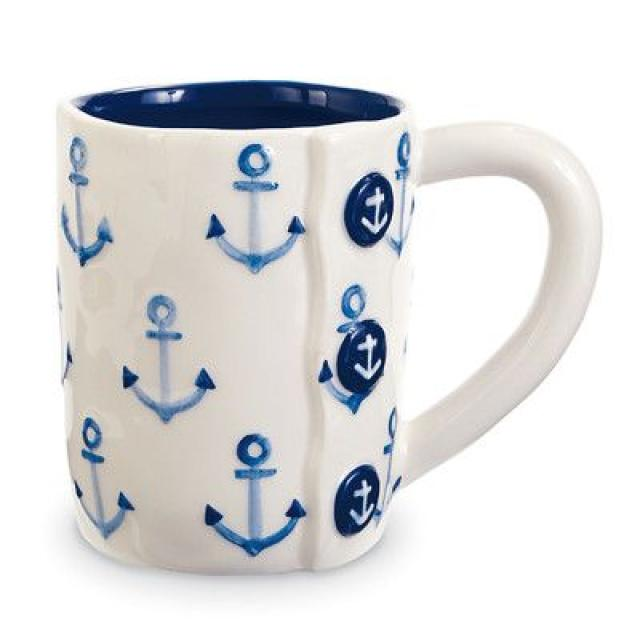glass cup: (55, 78, 605, 578)
